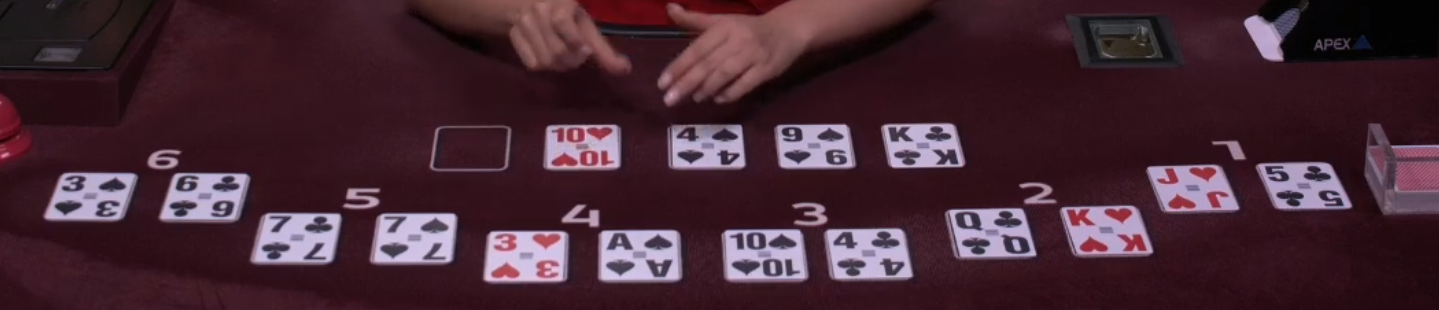10h: (537, 113, 629, 178)
10s: (716, 222, 811, 289)
3h: (476, 228, 576, 283)
3s: (42, 164, 141, 227)
4c: (817, 223, 922, 289)
4s: (668, 118, 751, 175)
5c: (1253, 158, 1356, 217)
6c: (159, 162, 250, 229)
7c: (250, 207, 350, 273)
7s: (364, 204, 466, 273)
9s: (773, 117, 867, 176)
ass: (595, 224, 693, 291)
jh: (1144, 159, 1248, 224)
kc: (879, 118, 972, 172)
kh: (1056, 198, 1159, 263)
qc: (943, 199, 1043, 265)
